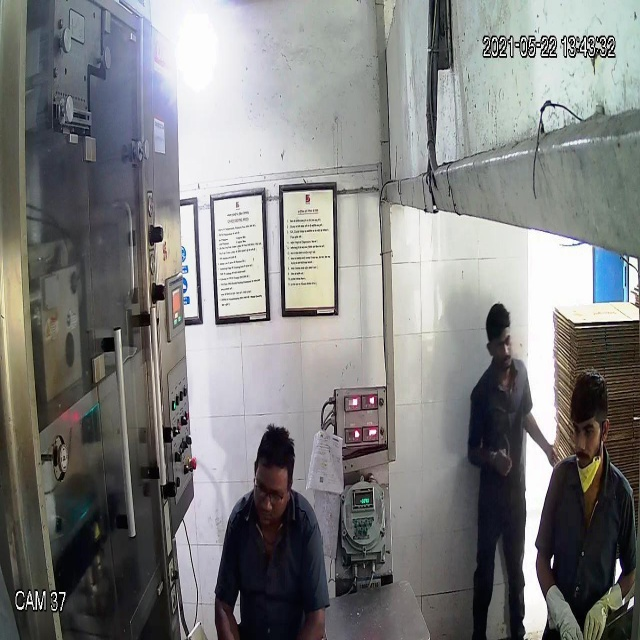Gafas: (251, 476, 292, 509)
Sin_gafas: (570, 418, 601, 444)
